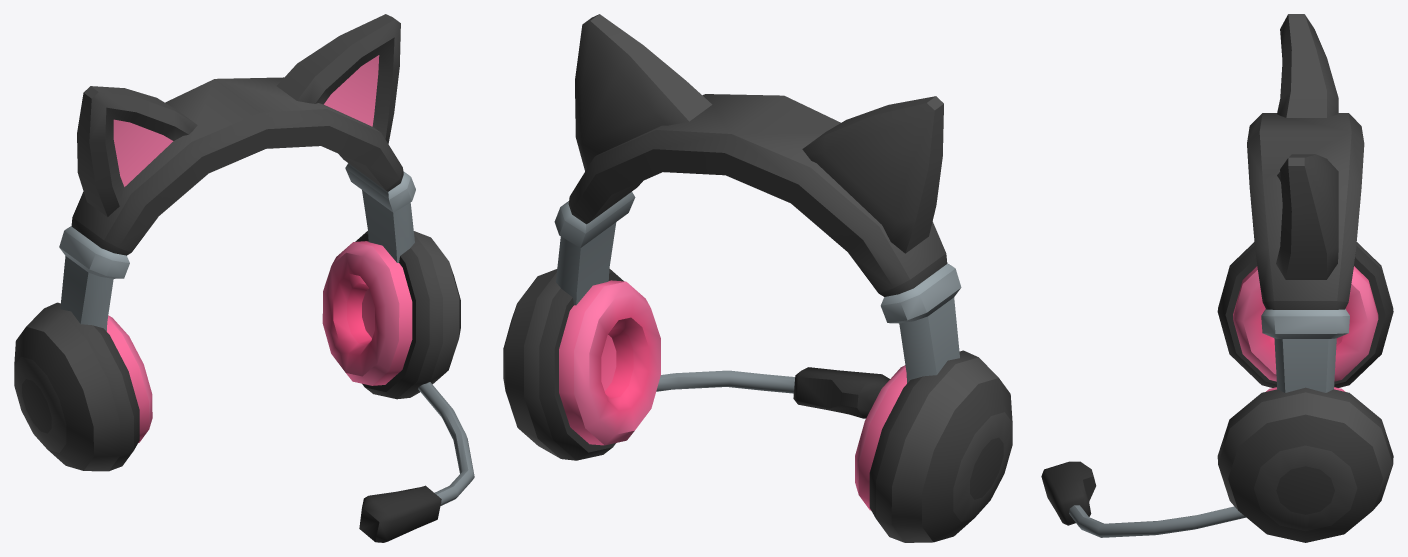
The model's file is cat_headphones_B.gltf.
3 views of the same model, side by side, from view 1: azimuth 30°, elevation 25°; view 2: azimuth 150°, elevation 25°; view 3: azimuth 270°, elevation 25° (orthographic). The views are drawn at different scales.
Visible parts, largest first — view 1: cat_headphones_B; view 2: cat_headphones_B; view 3: cat_headphones_B.
Part boxes in pixels (box(x1,y1,x2,y2)): cat_headphones_B: box(14, 14, 474, 542); cat_headphones_B: box(503, 14, 1012, 542); cat_headphones_B: box(1041, 14, 1393, 542).
Bounding box in the file's own units: 1.37 × 1.29 × 1.02.
1 material, 1 textured.
